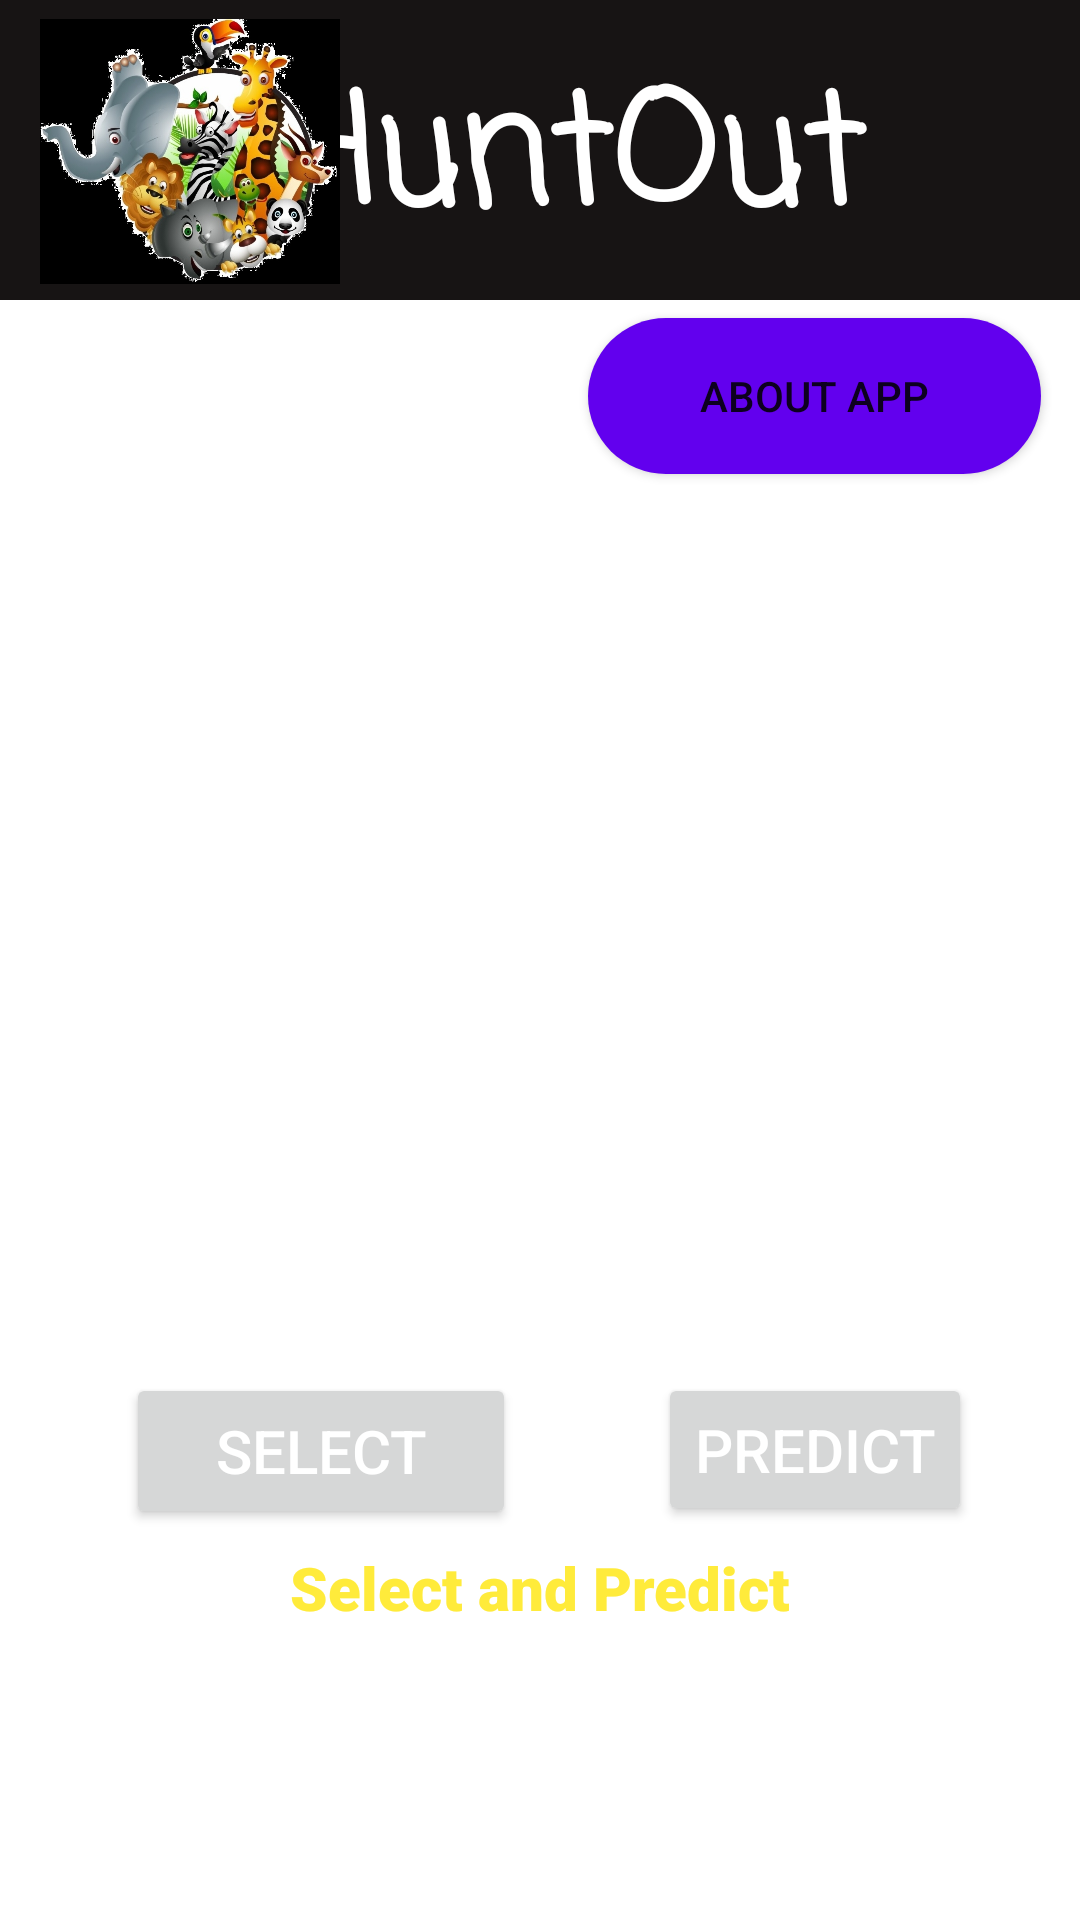

Point at icon controls on the screen. Image size 1080px×1920px, points as point (x, y).
iconapp: point (190, 161)
